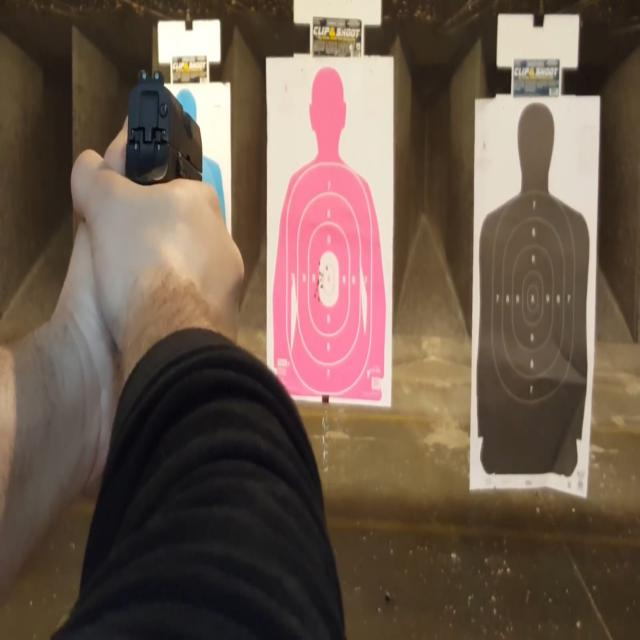handgun: (111, 38, 221, 290)
